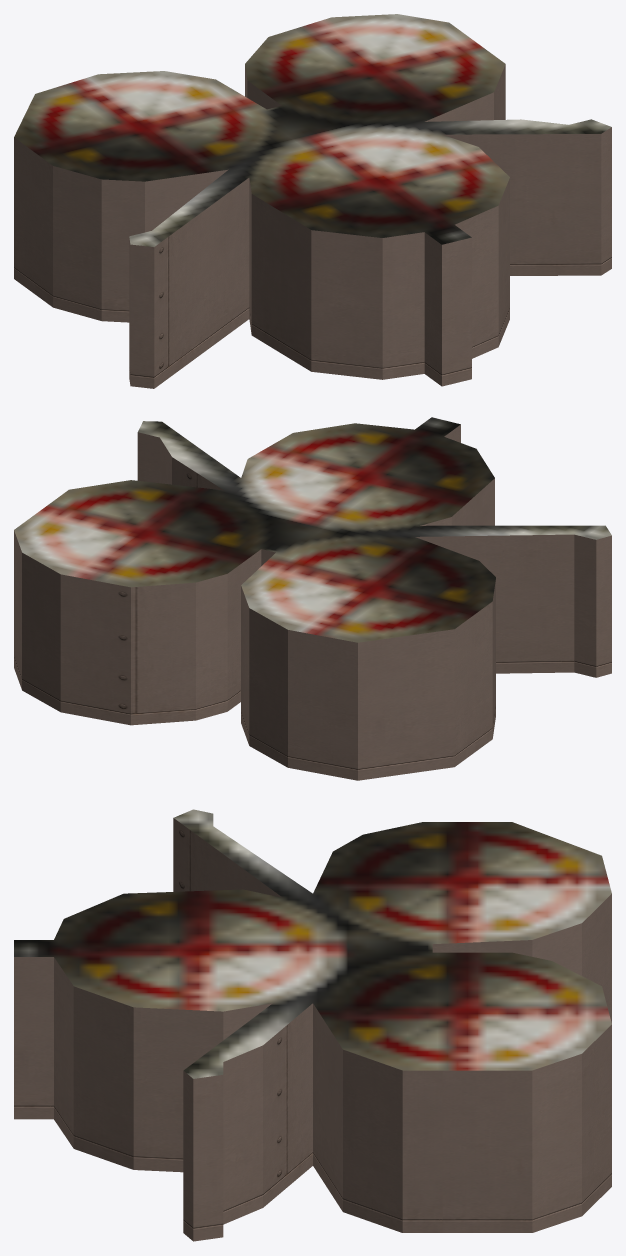
File: fuel_tank_medium_28.glb
The picture shows the model from 3 angles, top to bottom: view 1: azimuth 30°, elevation 25°; view 2: azimuth 150°, elevation 25°; view 3: azimuth 270°, elevation 25°; orthographic projection. The views are drawn at different scales.
Parts seen in each view (by area): view 1: buildings/saxarba/fuel_tanks/fuel_tank_medium_28; view 2: buildings/saxarba/fuel_tanks/fuel_tank_medium_28; view 3: buildings/saxarba/fuel_tanks/fuel_tank_medium_28.
Boxes of the visible parts, x1,y1,x2,y2 form: buildings/saxarba/fuel_tanks/fuel_tank_medium_28: (14, 14, 611, 388); buildings/saxarba/fuel_tanks/fuel_tank_medium_28: (14, 417, 611, 780); buildings/saxarba/fuel_tanks/fuel_tank_medium_28: (14, 809, 611, 1241).
Bounding box in the file's own units: 64 × 18 × 60.
